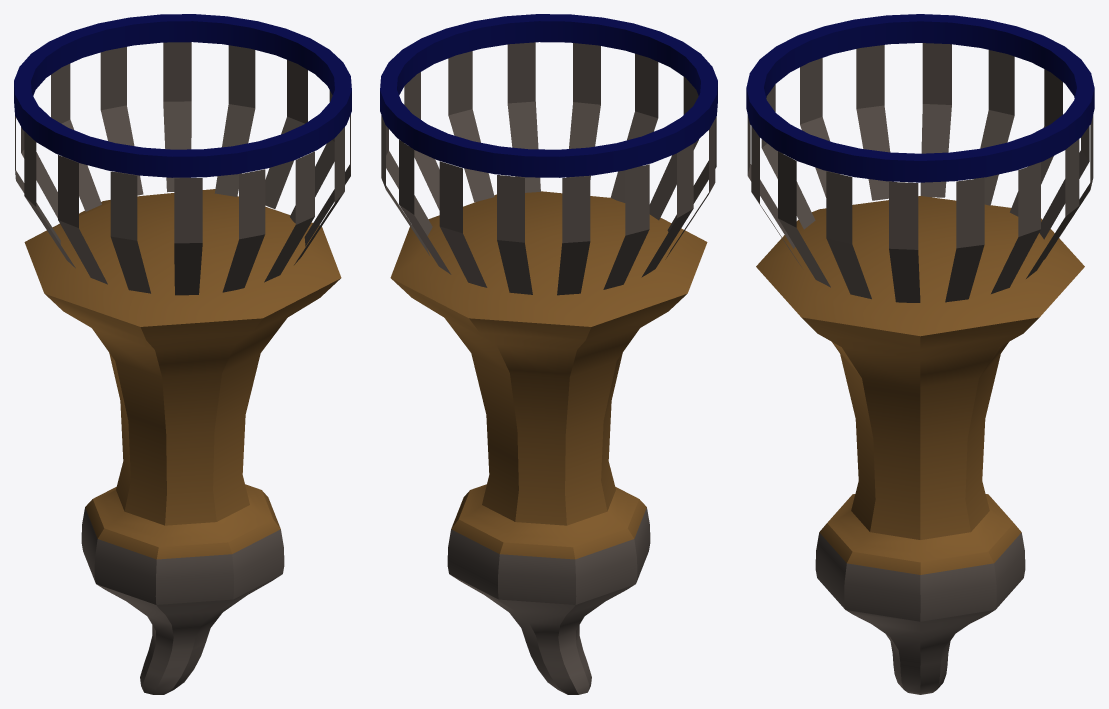
Rendered from torch.fbx.
3 renders of one model, left to right at view 1: azimuth 30°, elevation 25°; view 2: azimuth 150°, elevation 25°; view 3: azimuth 270°, elevation 25°, orthographic. The views are drawn at different scales.
Parts seen in each view (by area): view 1: Cube, Plane, Circle; view 2: Cube, Plane, Circle; view 3: Cube, Plane, Circle.
Boxes of the visible parts, bbox=[...] form: Cube: bbox=[24, 189, 341, 694]; Plane: bbox=[15, 42, 350, 295]; Circle: bbox=[14, 14, 351, 177]; Cube: bbox=[390, 191, 707, 694]; Plane: bbox=[381, 42, 716, 295]; Circle: bbox=[380, 14, 717, 177]; Cube: bbox=[756, 196, 1084, 694]; Plane: bbox=[747, 43, 1093, 302]; Circle: bbox=[746, 14, 1094, 182].
Bounding box in the file's own units: 5.54 × 5.54 × 10.84.
